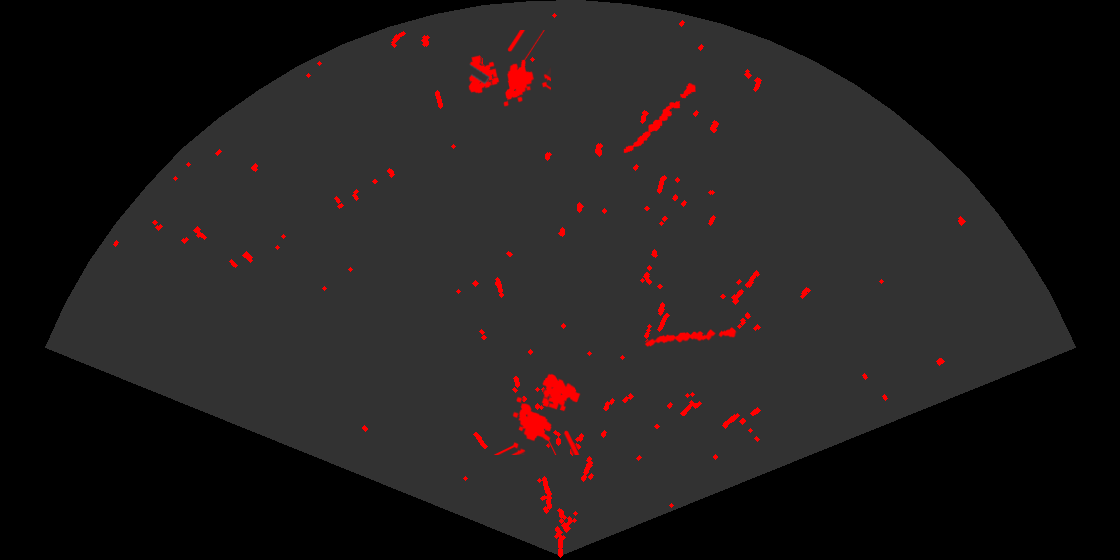cage: (492, 372, 582, 455), (467, 30, 551, 108)
chain: (622, 81, 697, 155), (643, 325, 738, 349)
